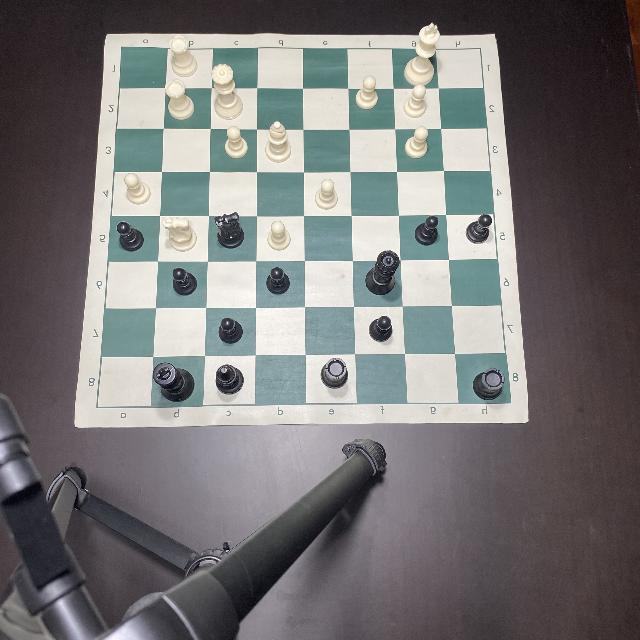black-bishop: (216, 364, 244, 396)
black-king: (153, 362, 195, 403)
black-knight: (213, 212, 244, 248)
black-pawn: (466, 212, 492, 244), (170, 267, 198, 295), (117, 222, 145, 250), (368, 315, 394, 343), (415, 216, 441, 244), (266, 266, 290, 294), (217, 318, 243, 338)
black-queen: (364, 250, 400, 296)
black-rook: (472, 368, 506, 399), (321, 358, 349, 388)
board: (73, 35, 523, 428)
white-bishop: (264, 120, 290, 162)
white-king: (404, 22, 441, 86)
white-knight: (162, 216, 195, 252)
white-pawn: (354, 77, 382, 109), (402, 84, 428, 118), (404, 127, 431, 159), (314, 178, 340, 210), (124, 173, 150, 204), (225, 126, 248, 158), (268, 220, 290, 250)
white-queen: (214, 64, 242, 118)
white-rook: (166, 78, 194, 120), (171, 36, 197, 78)
